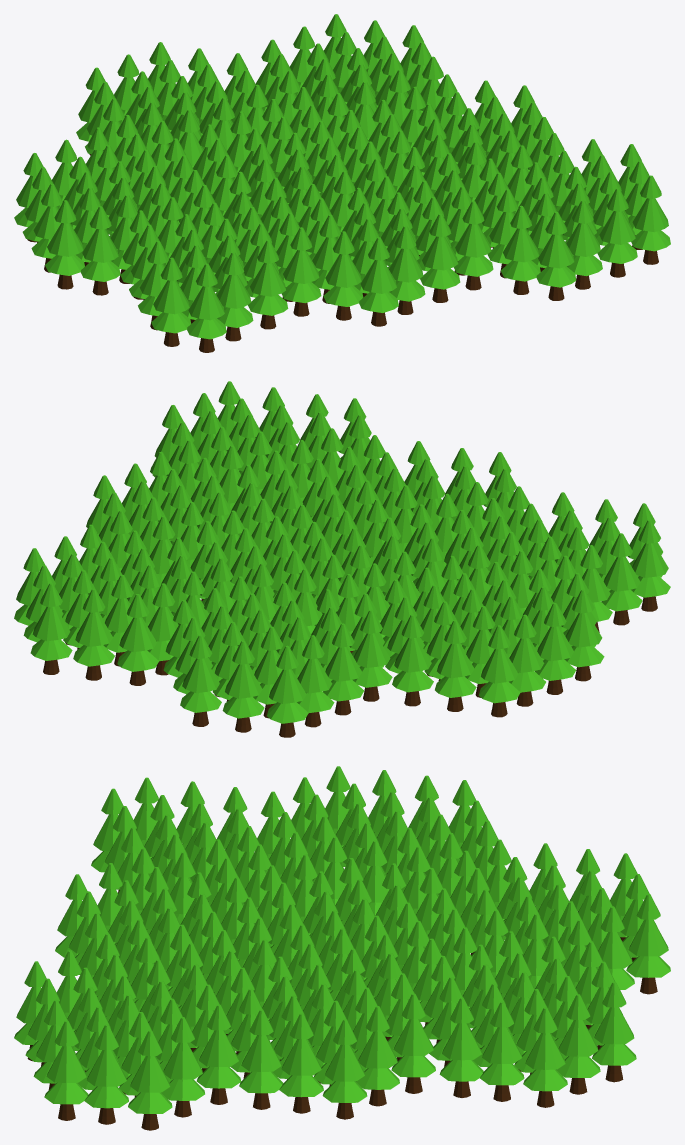
File: Group of trees.gltf
3 views of the same model, one above another, from view 1: azimuth 30°, elevation 25°; view 2: azimuth 150°, elevation 25°; view 3: azimuth 270°, elevation 25° (orthographic). The views are drawn at different scales.
Parts seen in each view (by area): view 1: Icosphere.156; view 2: Icosphere.156; view 3: Icosphere.156.
Boxes of the visible parts, x1,y1,x2,y2 form: Icosphere.156: [14, 14, 670, 352]; Icosphere.156: [14, 381, 670, 737]; Icosphere.156: [14, 766, 670, 1130].
Bounding box in the file's own units: 13.78 × 2.18 × 13.5.
Materials: 1 (1 with a texture image).
